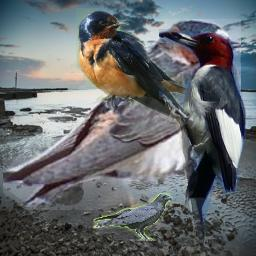Crow: (93, 193, 173, 241)
Swallow: (3, 19, 241, 210), (76, 8, 241, 134)
Woodpecker: (159, 29, 246, 250)
